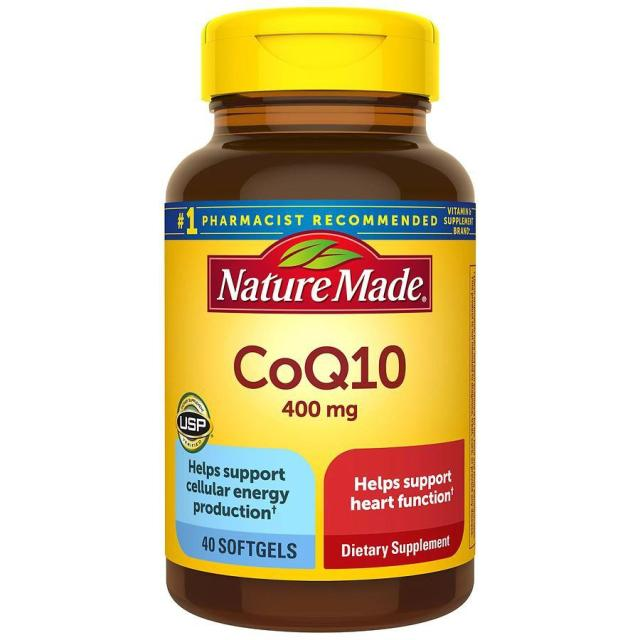food-supliment: (164, 160, 471, 613)
